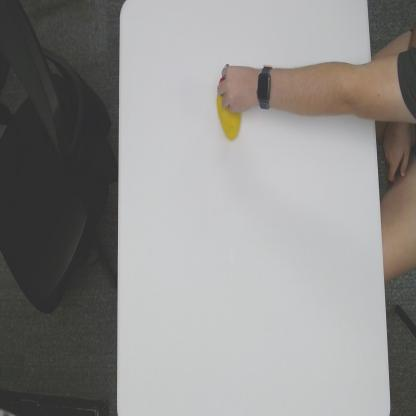Arm: (274, 62, 375, 121)
Duck: (215, 74, 242, 146)
Hand: (217, 61, 257, 116)
